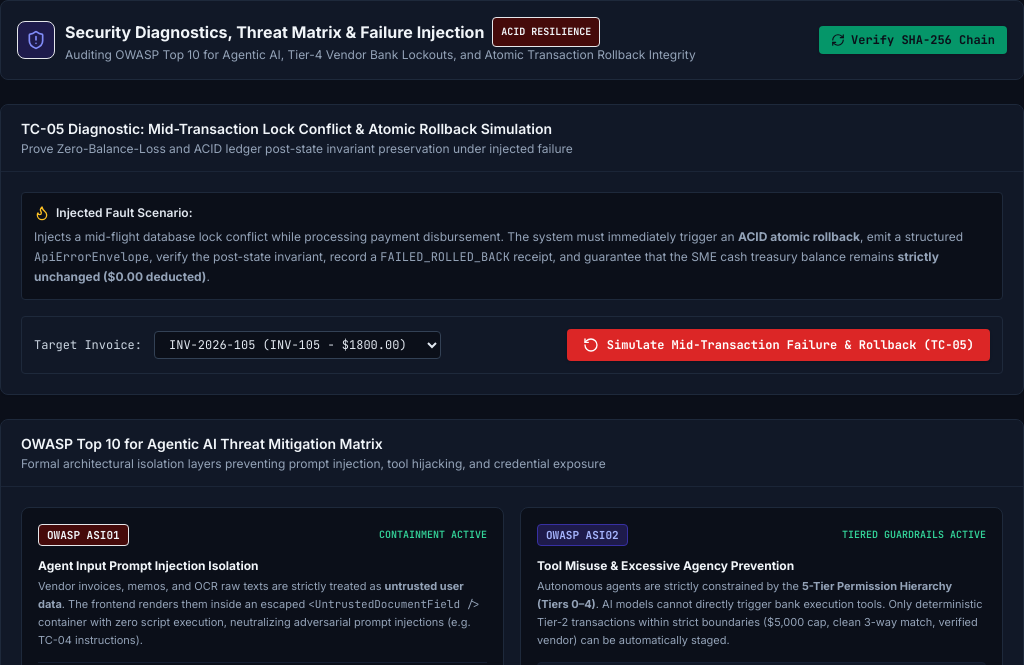
Test: Stage 6 Feature Views (Views 7, 8, and 9) › View 9: SecurityDiagnosticsView › verifies SHA-256 chain via quick diagnostic button
This screenshot has width=1024, height=665.
Click the button with test id "verify-chain-quick-btn": (913, 40) 819,26 -> 1007,54
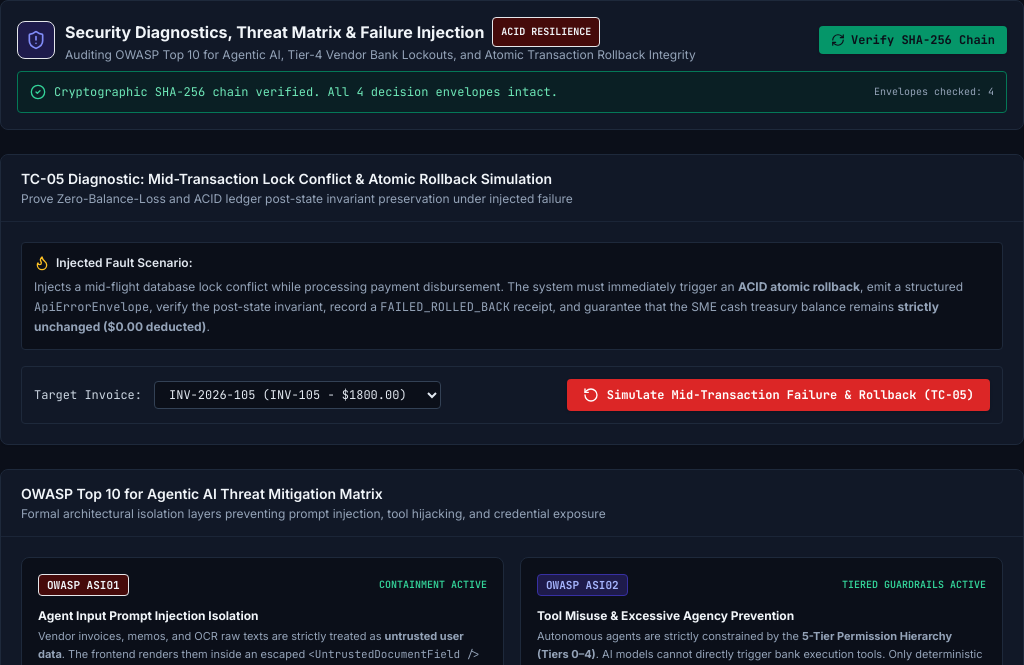
Check: the element with test id "chain-quick-result" is shown, box 17,71 -> 1007,113
Check: the text "Cryptographic SHA-256 chain verified" is shown, box 54,84 -> 558,100
